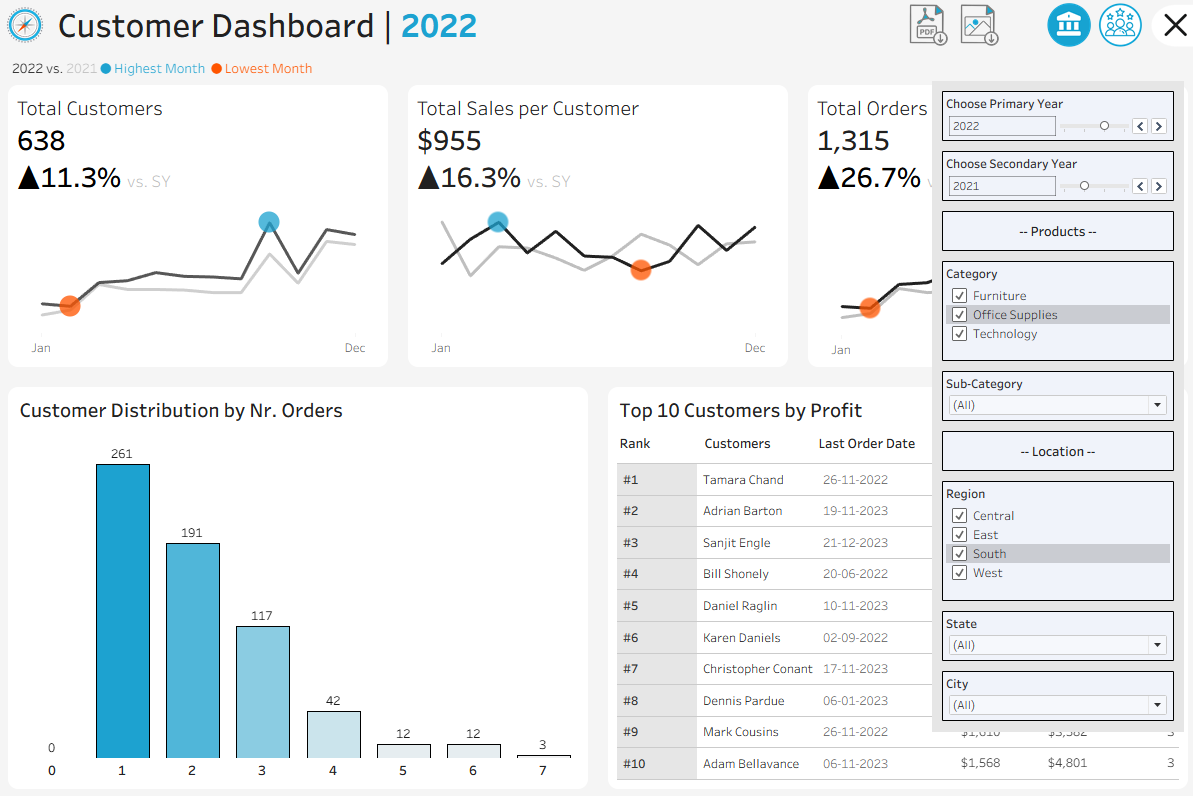

What the dashboard file says about the page in this screenshot:
{"tool":"tableau","page":{"name":"Customers Dashboard","canvas":[1200,800],"ordinal":0},"visuals":[{"type":"image","param":"Image/Icon - Logo.png","box":[0,0,53.3,51]},{"type":"text","box":[53.3,0,850,51]},{"type":"dashboard-object","box":[903.3,0,51,51]},{"type":"dashboard-object","box":[954.3,0,51,51]},{"type":"blank","box":[1008.7,0,35,51]},{"type":"dashboard-object","box":[1044,0,52,51]},{"type":"dashboard-object","box":[1096,0,52,51]},{"type":"dashboard-object","box":[1148,0,52,51]},{"type":"worksheet","title":"Legend KPI","mark":"Automatic","box":[0,51,1200,35]},{"type":"worksheet","title":"KPI Customers","mark":"Line","rows":["Min/Max Profit (copy)_0895619974606859"],"cols":["Order Date"],"box":[0,86,400,292]},{"type":"worksheet","title":"KPI Sales per Customer","mark":"Line","rows":["Min/Max Orders (copy)_0886274242637831"],"cols":["Order Date"],"box":[400,86,400,292]},{"type":"worksheet","title":"KPI Orders","mark":"Line","rows":["Min/Max Customers (copy)_0886274241306625"],"cols":["Order Date"],"box":[800,86,400,292]},{"type":"parameter","param":"[Parameters].[Parameter 1]","box":[939,87,242,60]},{"type":"parameter","param":"[Parameters].[Choose Primary Year (copy)_0336792909492229]","box":[939,147,242,60]},{"type":"text","box":[939,207,242,50]},{"type":"filter","title":"KPI Customers","param":"[federated.0j6tzli15aromr19julgg1s33fei].[none:Category:nk]","box":[939,257,242,110]},{"type":"filter","title":"Customer Distribution","param":"[federated.0j6tzli15aromr19julgg1s33fei].[none:Sub-Category:nk]","box":[939,367,242,60]},{"type":"text","box":[15,393,570,35]},{"type":"text","box":[615,393,570,35]},{"type":"text","box":[939,427,242,50]},{"type":"worksheet","title":"Customer Distribution","mark":"Bar","rows":["PY Profit (copy)_0895619974057992"],"cols":["Calculation_0886274246070288"],"box":[15,428,570,357]},{"type":"text","box":[615,428,85,32]},{"type":"text","box":[700,428,114,32]},{"type":"text","box":[814,428,133,32]},{"type":"text","box":[947,428,80,32]},{"type":"text","box":[1027,428,81,32]},{"type":"text","box":[1108,428,77,32]},{"type":"worksheet","title":"Top Customers","mark":"Automatic","rows":["Calculation_0886274249965588","Customer Name","Order Date"],"box":[615,460,570,325]},{"type":"filter","title":"KPI Customers","param":"[federated.0j6tzli15aromr19julgg1s33fei].[none:Region:nk]","box":[939,477,242,130]},{"type":"filter","title":"KPI Customers","param":"[federated.0j6tzli15aromr19julgg1s33fei].[none:State:nk]","box":[939,607,242,60]},{"type":"filter","title":"KPI Customers","param":"[federated.0j6tzli15aromr19julgg1s33fei].[none:City:nk]","box":[939,667,242,60]}]}

Visuals, with their boxes in screenshot pixels (x1, y1, x2, y2), scaled from the page's 1200x800 canvas onto the 1193x796 screenshot:
image: 0, 0, 53, 51
text: 53, 0, 898, 51
dashboard-object: 898, 0, 949, 51
dashboard-object: 949, 0, 999, 51
blank: 1003, 0, 1038, 51
dashboard-object: 1038, 0, 1090, 51
dashboard-object: 1090, 0, 1141, 51
dashboard-object: 1141, 0, 1192, 51
"Legend KPI" worksheet: 0, 51, 1192, 86
"KPI Customers" worksheet (Line marks): 0, 86, 398, 376
"KPI Sales per Customer" worksheet (Line marks): 398, 86, 795, 376
"KPI Orders" worksheet (Line marks): 795, 86, 1192, 376
parameter: 934, 87, 1174, 146
parameter: 934, 146, 1174, 206
text: 934, 206, 1174, 256
"KPI Customers" filter: 934, 256, 1174, 365
"Customer Distribution" filter: 934, 365, 1174, 425
text: 15, 391, 582, 426
text: 611, 391, 1178, 426
text: 934, 425, 1174, 475
"Customer Distribution" worksheet (Bar marks): 15, 426, 582, 781
text: 611, 426, 696, 458
text: 696, 426, 809, 458
text: 809, 426, 941, 458
text: 941, 426, 1021, 458
text: 1021, 426, 1102, 458
text: 1102, 426, 1178, 458
"Top Customers" worksheet: 611, 458, 1178, 781
"KPI Customers" filter: 934, 475, 1174, 604
"KPI Customers" filter: 934, 604, 1174, 664
"KPI Customers" filter: 934, 664, 1174, 723
